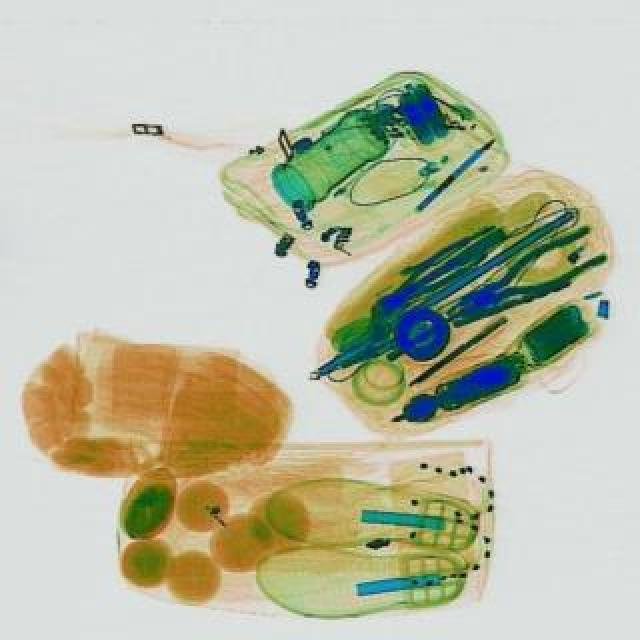wrench: (434, 220, 610, 338), (358, 214, 510, 328)
